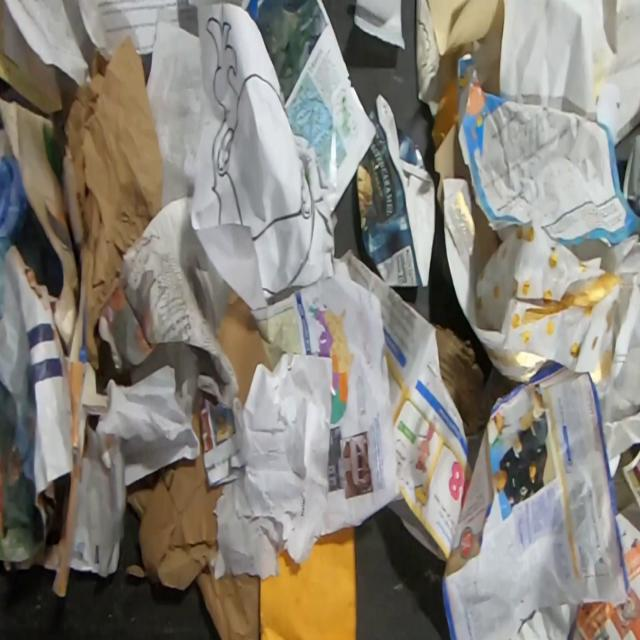cardboard: (125, 399, 260, 639), (356, 91, 436, 288), (435, 325, 524, 438), (216, 288, 273, 410), (433, 123, 472, 217)
